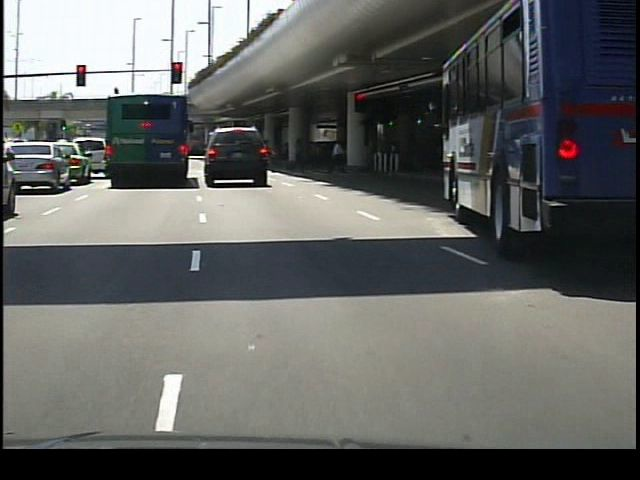person: (287, 135, 309, 177), (325, 136, 345, 173)
